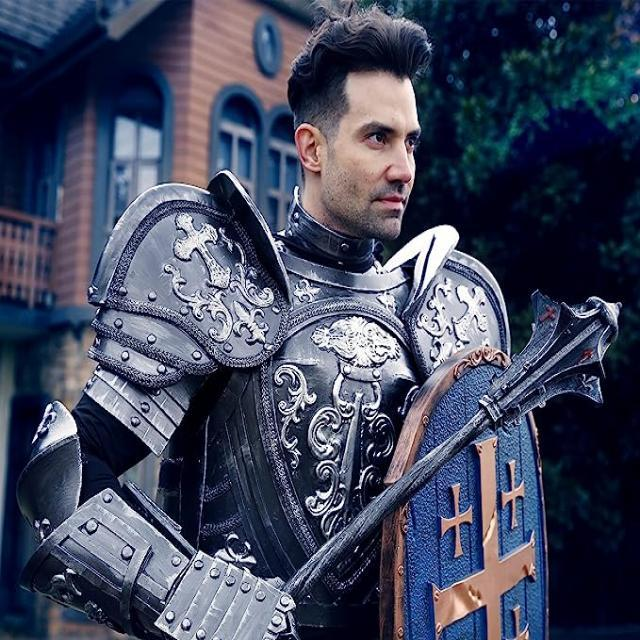mace: (289, 289, 626, 592)
shield: (373, 342, 552, 640)
